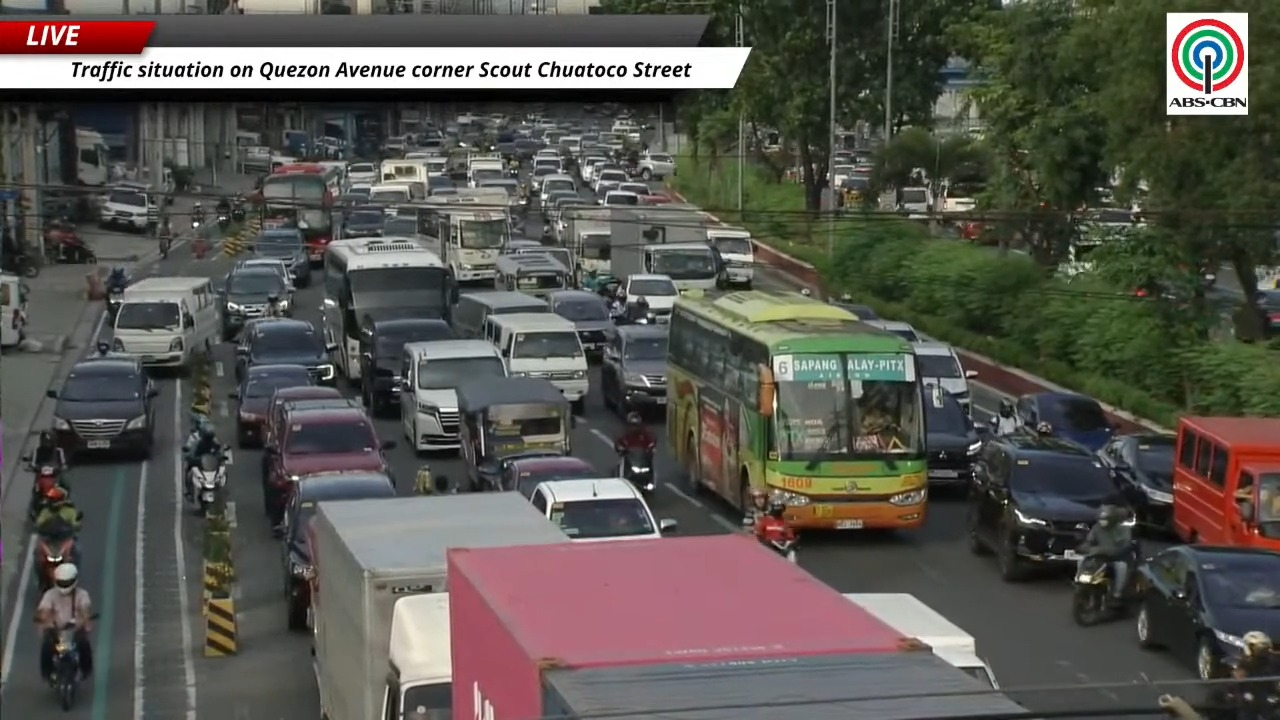bus: (667, 291, 927, 529), (323, 236, 457, 385), (422, 188, 511, 283), (256, 163, 340, 263)
car: (967, 432, 1127, 581), (1135, 545, 1279, 679), (279, 472, 395, 630), (263, 409, 394, 524), (47, 356, 157, 457), (361, 311, 455, 415), (530, 477, 676, 541), (260, 394, 361, 485), (1098, 432, 1175, 531), (229, 364, 312, 447), (235, 318, 335, 383), (600, 325, 668, 417), (1015, 392, 1116, 451), (924, 391, 982, 488), (218, 267, 286, 341), (262, 385, 344, 444), (546, 289, 613, 357), (913, 341, 976, 412), (500, 455, 600, 497), (253, 228, 311, 286), (235, 255, 295, 303), (510, 243, 574, 271), (341, 205, 385, 238), (863, 319, 924, 342), (1254, 287, 1279, 337), (383, 214, 425, 241), (833, 301, 880, 321), (600, 189, 639, 206), (503, 238, 542, 253), (617, 182, 649, 196)
motorcycle: (1072, 555, 1133, 626), (33, 527, 75, 593), (50, 622, 81, 711), (744, 515, 797, 563), (187, 454, 224, 516), (44, 220, 96, 263), (28, 464, 60, 521), (618, 447, 655, 493), (15, 250, 40, 278), (107, 287, 122, 319), (158, 231, 172, 258), (540, 222, 553, 244), (231, 205, 245, 222), (217, 213, 230, 230), (191, 219, 201, 230)
truck: (449, 534, 981, 719), (307, 493, 568, 719), (513, 652, 1031, 719), (845, 593, 998, 687), (610, 207, 722, 291), (376, 594, 451, 719), (564, 207, 611, 274), (706, 223, 754, 288)
